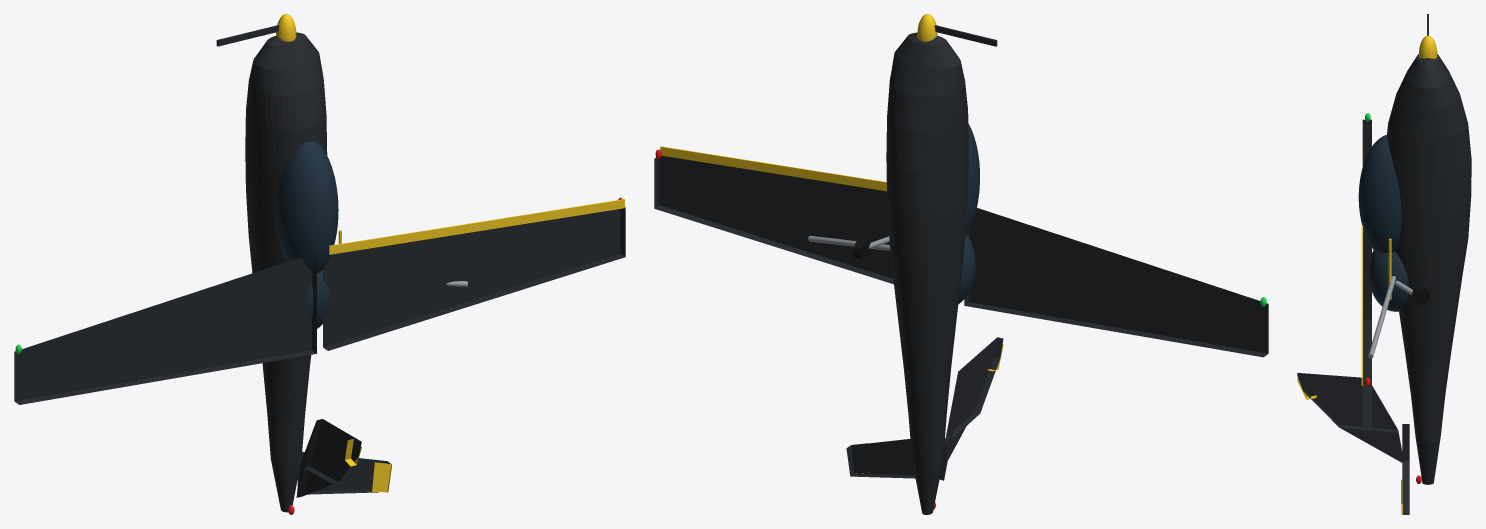
Rendered from cessna-skyhawk.glb.
3 renders of one model, left to right at view 1: azimuth 30°, elevation 25°; view 2: azimuth 150°, elevation 25°; view 3: azimuth 270°, elevation 25°, orthographic. The views are drawn at different scales.
Parts seen in each view (by area): view 1: Left Wing, Right Wing, Fuselage, Cockpit Canopy, Vertical Fin, Wing Yellow Accent, Horizontal Stabilizer, Rear Cabin Glass; view 2: Fuselage, Left Wing, Right Wing, Vertical Fin, Horizontal Stabilizer, Wing Yellow Accent, Cockpit Canopy, Rear Cabin Glass; view 3: Fuselage, Vertical Fin, Cockpit Canopy, Right Wing, Rear Cabin Glass, Horizontal Stabilizer, Wing Strut, Left Wing, Propeller Spinner, Wing Yellow Accent, Main Wheel.
Part boxes in pixels (x1,y1,x2,y2): Left Wing: (14, 257, 316, 404); Right Wing: (323, 207, 625, 350); Fuselage: (245, 32, 327, 512); Cockpit Canopy: (275, 141, 338, 272); Vertical Fin: (296, 419, 361, 497); Wing Yellow Accent: (329, 199, 624, 254); Horizontal Stabilizer: (297, 451, 390, 494); Rear Cabin Glass: (305, 270, 329, 328); Fuselage: (886, 32, 968, 514); Left Wing: (964, 208, 1268, 357); Right Wing: (654, 156, 893, 284); Vertical Fin: (939, 337, 1003, 480); Horizontal Stabilizer: (846, 439, 915, 478); Wing Yellow Accent: (660, 146, 886, 191); Cockpit Canopy: (965, 123, 979, 236); Rear Cabin Glass: (958, 235, 975, 303); Fuselage: (1387, 54, 1471, 484); Vertical Fin: (1297, 373, 1403, 462); Cockpit Canopy: (1358, 134, 1401, 253); Right Wing: (1362, 232, 1371, 430); Rear Cabin Glass: (1369, 250, 1408, 311); Horizontal Stabilizer: (1402, 424, 1409, 514); Wing Strut: (1368, 276, 1395, 358); Left Wing: (1362, 119, 1371, 232); Propeller Spinner: (1419, 35, 1437, 58); Wing Yellow Accent: (1361, 225, 1362, 385); Main Wheel: (1412, 285, 1430, 305).
Size of the model in its own units: 11.02 by 8.61 by 3.04.
